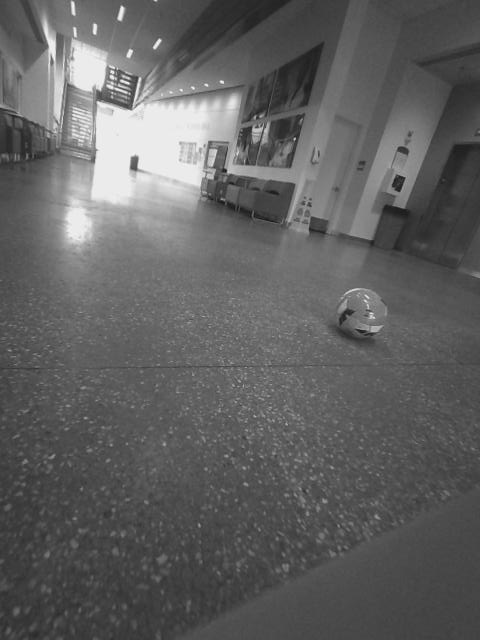ball: (1, 1, 124, 192), (6, 336, 104, 527), (40, 350, 150, 421), (37, 350, 150, 352), (8, 351, 11, 352)
